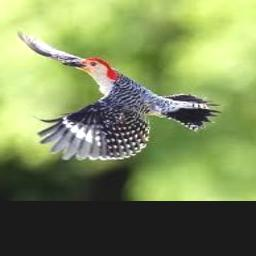Woodpecker: (17, 29, 219, 160)
